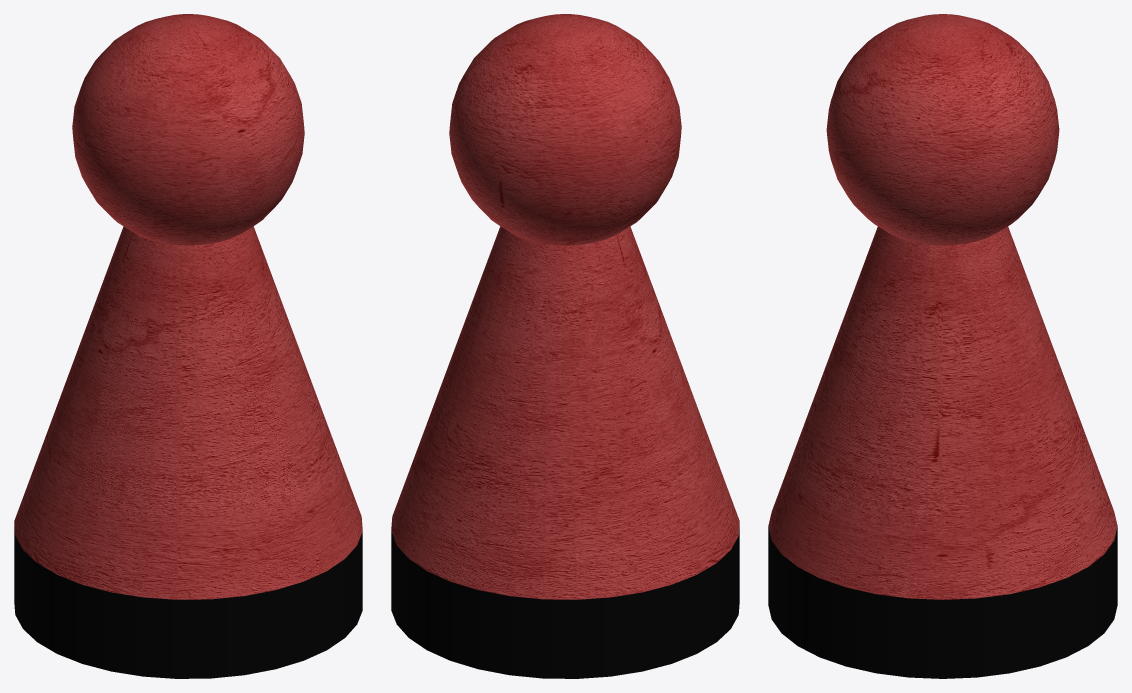
Rendered from Player2.fbx.
3 views of the same model, side by side, from view 1: azimuth 30°, elevation 25°; view 2: azimuth 150°, elevation 25°; view 3: azimuth 270°, elevation 25° (orthographic).
Parts seen in each view (by area): view 1: Player2 Body, Player2 Head, Player2 Bottom; view 2: Player2 Body, Player2 Head, Player2 Bottom; view 3: Player2 Body, Player2 Head, Player2 Bottom.
Boxes of the visible parts, x1=… form: Player2 Body: x1=14, y1=226, x2=362, y2=599; Player2 Head: x1=72, y1=14, x2=304, y2=245; Player2 Bottom: x1=14, y1=526, x2=362, y2=678; Player2 Body: x1=391, y1=226, x2=739, y2=599; Player2 Head: x1=449, y1=14, x2=681, y2=245; Player2 Bottom: x1=391, y1=526, x2=739, y2=678; Player2 Body: x1=768, y1=226, x2=1117, y2=599; Player2 Head: x1=826, y1=14, x2=1059, y2=245; Player2 Bottom: x1=768, y1=527, x2=1117, y2=678.
Size of the model in its own units: 60 by 110 by 60.
Materials: 2 (1 with a texture image).
